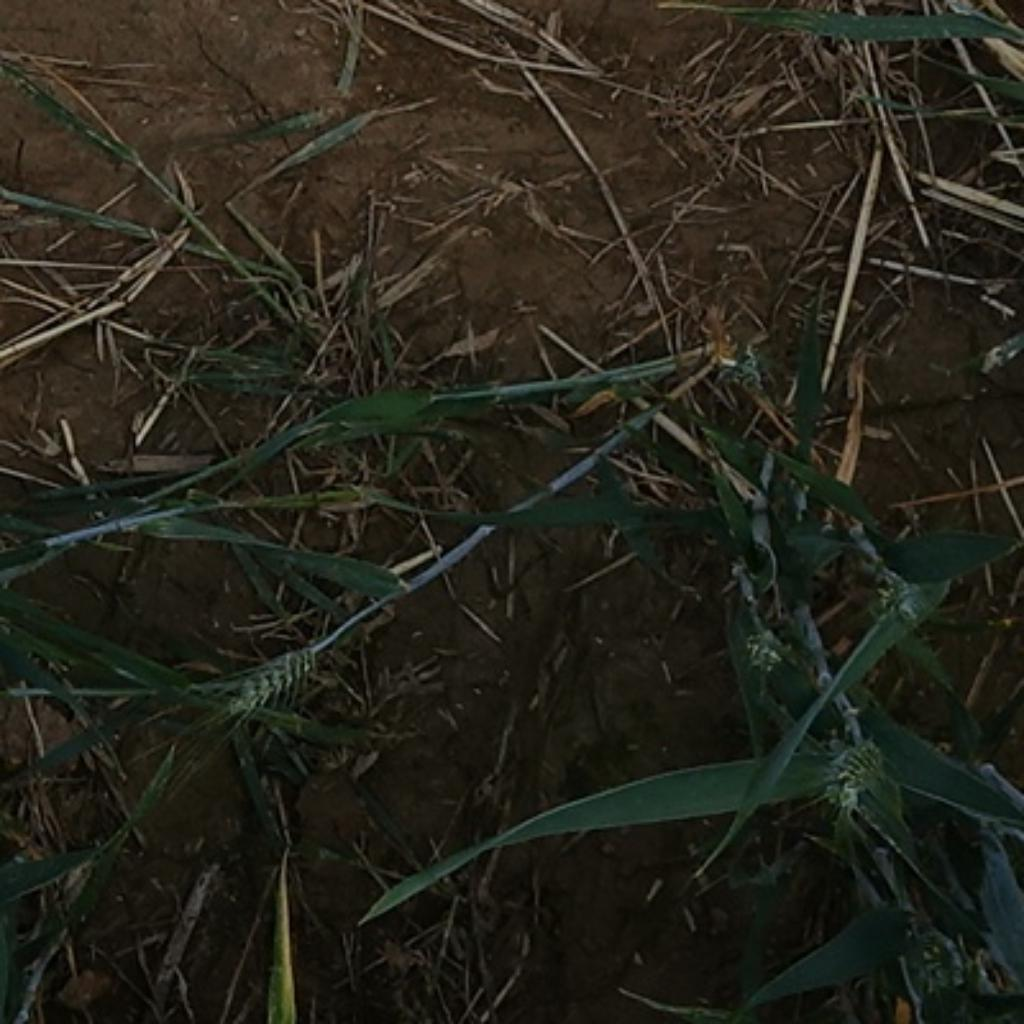0-0: (912, 913, 1007, 1018), (212, 638, 327, 714), (821, 727, 890, 803), (862, 560, 929, 634), (739, 629, 798, 675), (1021, 816, 1024, 903)
